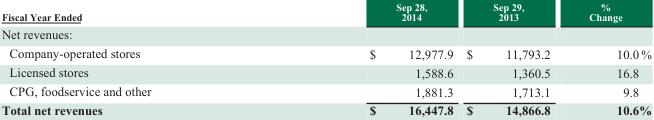table: (0, 1, 650, 117)
table column: (0, 1, 259, 117), (259, 1, 459, 117), (459, 1, 568, 117), (568, 1, 650, 117)
table column header: (0, 1, 650, 24)
table projected row header: (0, 24, 650, 43)
table row: (0, 1, 650, 24), (0, 62, 650, 82), (0, 24, 650, 43), (0, 43, 650, 62), (0, 82, 650, 101), (0, 101, 650, 117)
